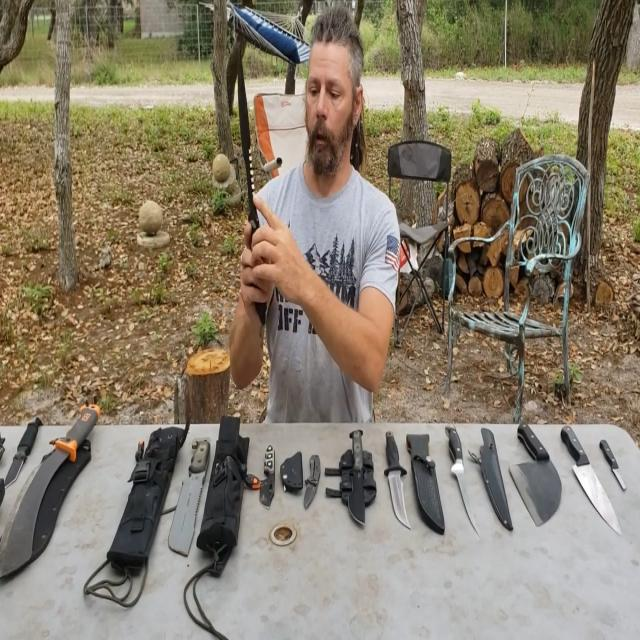knife: (0, 390, 103, 577), (561, 409, 621, 534), (158, 428, 217, 555), (508, 426, 564, 524), (235, 50, 262, 248), (438, 414, 484, 530), (0, 404, 50, 493), (378, 421, 416, 528), (346, 416, 370, 532), (597, 426, 632, 499), (254, 432, 282, 516), (303, 445, 323, 519)
